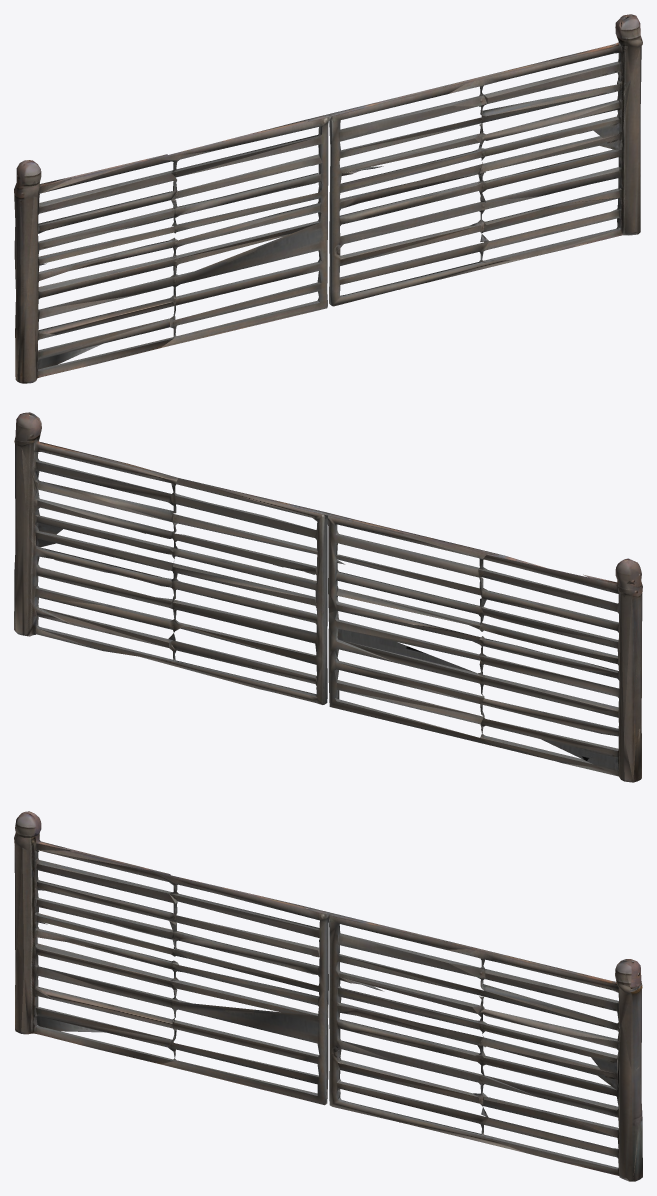
The model's file is gate.glb.
The picture shows the model from 3 angles, top to bottom: view 1: azimuth 30°, elevation 25°; view 2: azimuth 150°, elevation 25°; view 3: azimuth 330°, elevation 25°; orthographic projection.
Parts seen in each view (by area): view 1: output_unwrapped; view 2: output_unwrapped; view 3: output_unwrapped.
Part boxes in pixels (box(x1,y1,x2,y2)): output_unwrapped: box(14, 14, 642, 383); output_unwrapped: box(14, 412, 642, 782); output_unwrapped: box(14, 811, 642, 1181).
Bounding box in the file's own units: 11.92 × 4 × 0.443.
Materials: 1 (1 with a texture image).
